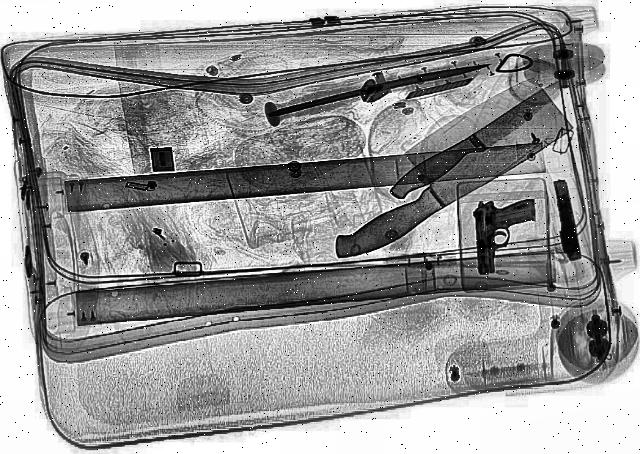Gun: (470, 198, 540, 276), (548, 180, 584, 262)
Knife: (288, 72, 594, 272), (379, 76, 577, 207), (266, 58, 492, 120)
